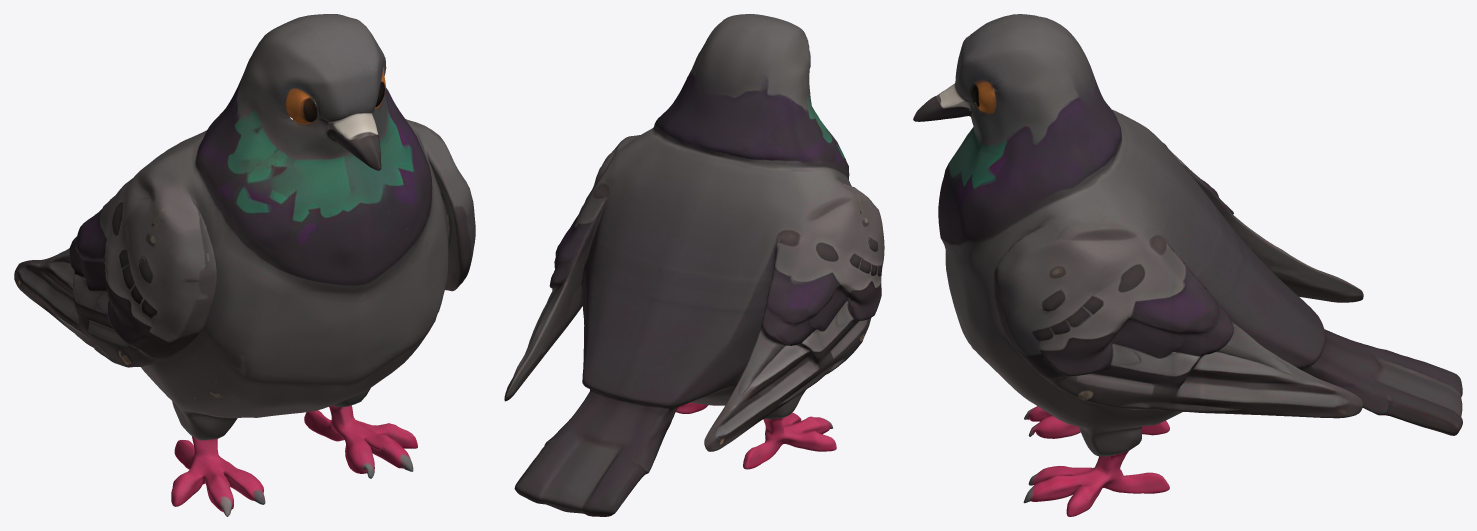
File: g67_pigeon.glb
3 renders of one model, left to right at view 1: azimuth 30°, elevation 25°; view 2: azimuth 150°, elevation 25°; view 3: azimuth 270°, elevation 25°, orthographic. The views are drawn at different scales.
Visible parts, largest first — view 1: tripo_node_27ac540f; view 2: tripo_node_27ac540f; view 3: tripo_node_27ac540f.
Part boxes in pixels (x1,y1,x2,y2): tripo_node_27ac540f: (14, 14, 475, 516); tripo_node_27ac540f: (504, 14, 884, 516); tripo_node_27ac540f: (913, 14, 1462, 516).
Size of the model in its own units: 64.42 by 86.08 by 97.65.
Materials: 1 (1 with a texture image).
